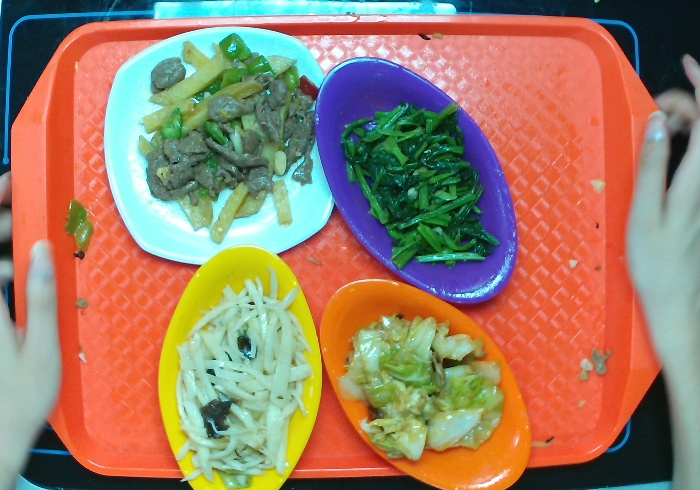RJxy-Fen_Hong_Tuo_Yuan: (307, 49, 523, 316)
RJxy-Huang_Se_Tuo_Yuan: (152, 240, 330, 490)
RJxy-Ju_Huang_Tuo_Yuan: (317, 272, 535, 490)
RJxy-Si_Fang_Die: (105, 23, 351, 270)
